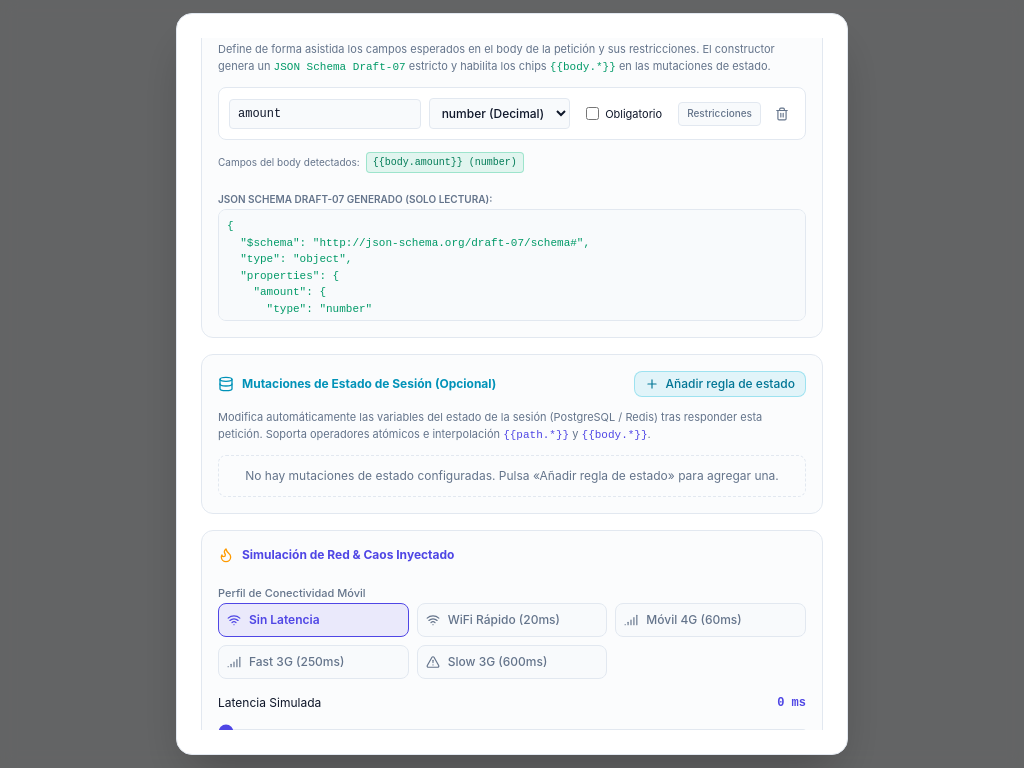
Test: EndpointFormModal Component › debe detectar parámetros {param} y campos del requestSchema mostrando chips interactivos en las reglas
(page scrolled)
Añadir una regla de estado
Click the button "Añadir regla de estado" at (720, 384), box [634,371,806,397]
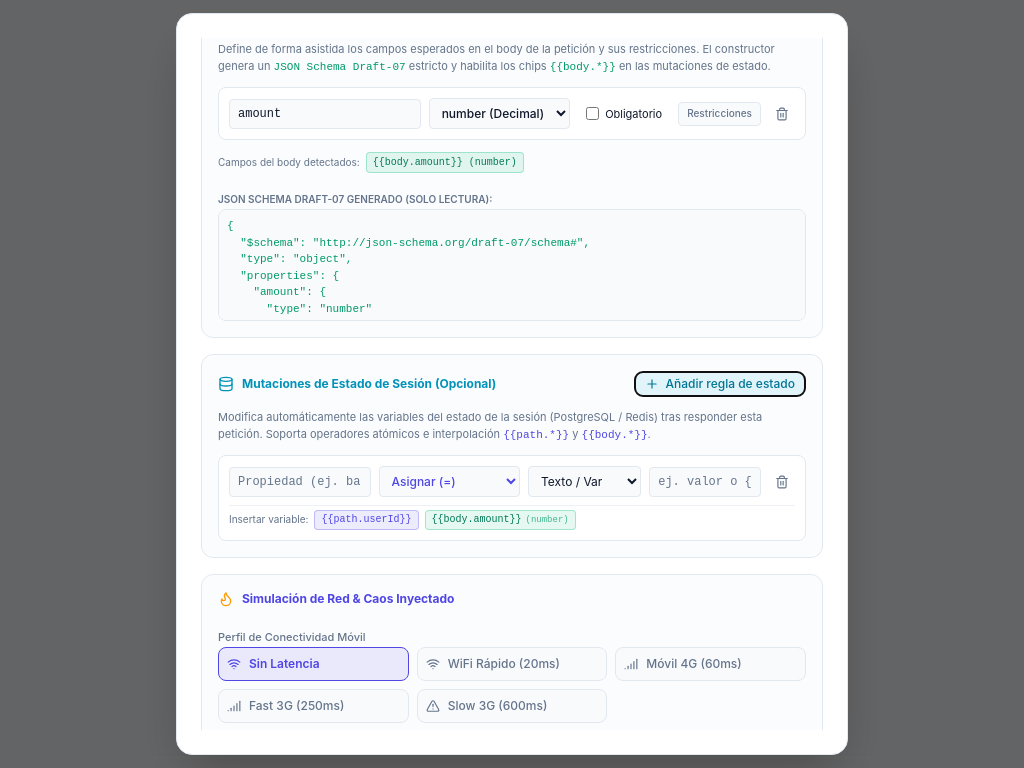
Click the button "{{body.amount}}(number)" at (500, 520), box [424,510,576,530]
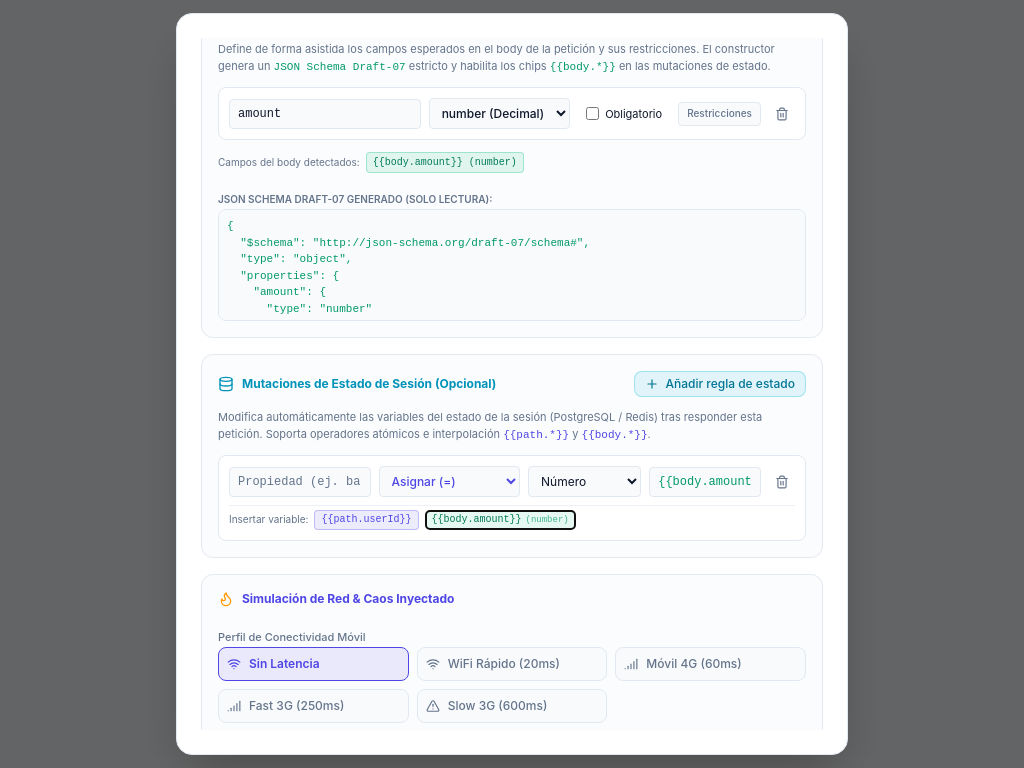
Check: the field named "Valor 1" below "{{path.*}}" holds "{{body.amount}}", box [649,467,761,497]
Check: the 3rd dropdown named "Tipo de valor 1" shows "Número", box [528,466,641,497]
